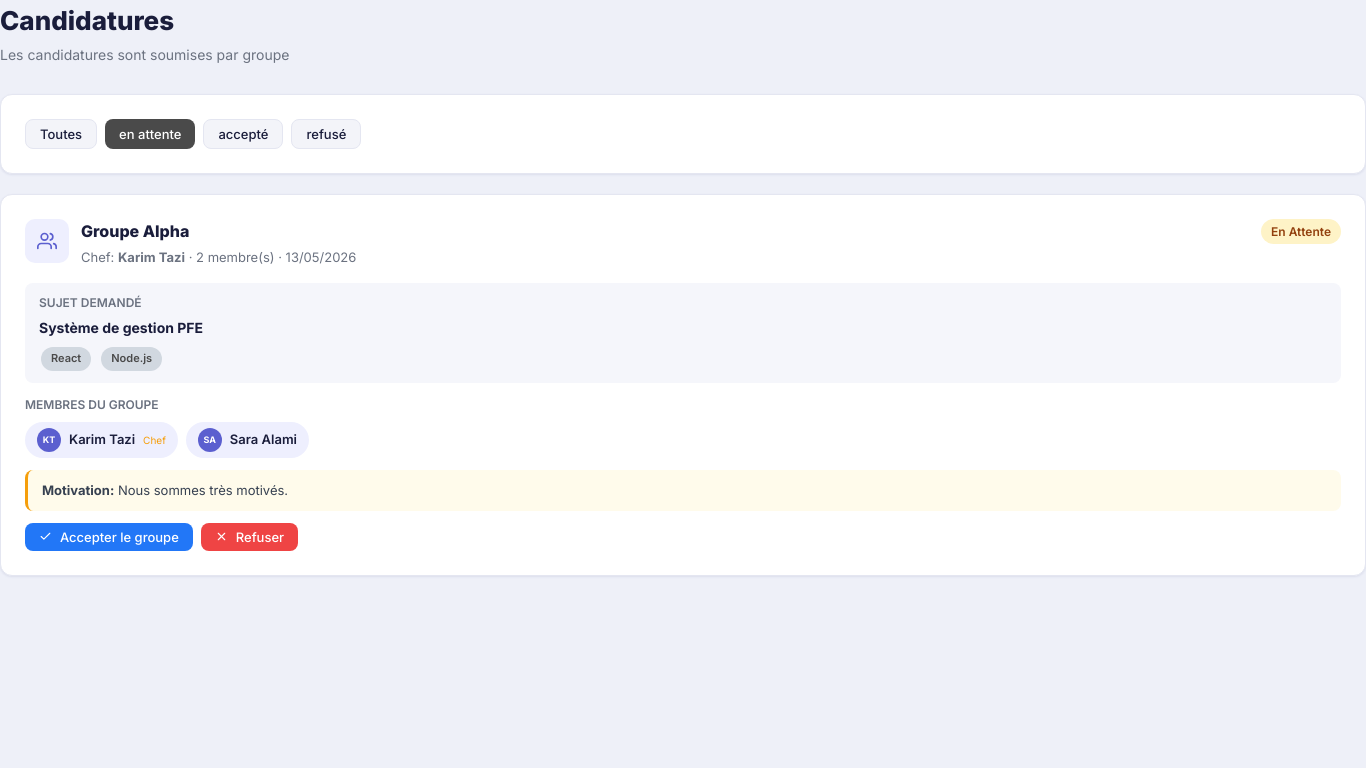
Scenario: ApplicationsReviewPage › opens refuse modal
This screenshot has width=1366, height=768.
Click the button "Refuser". click: (249, 536)
box: [201,522,298,550]
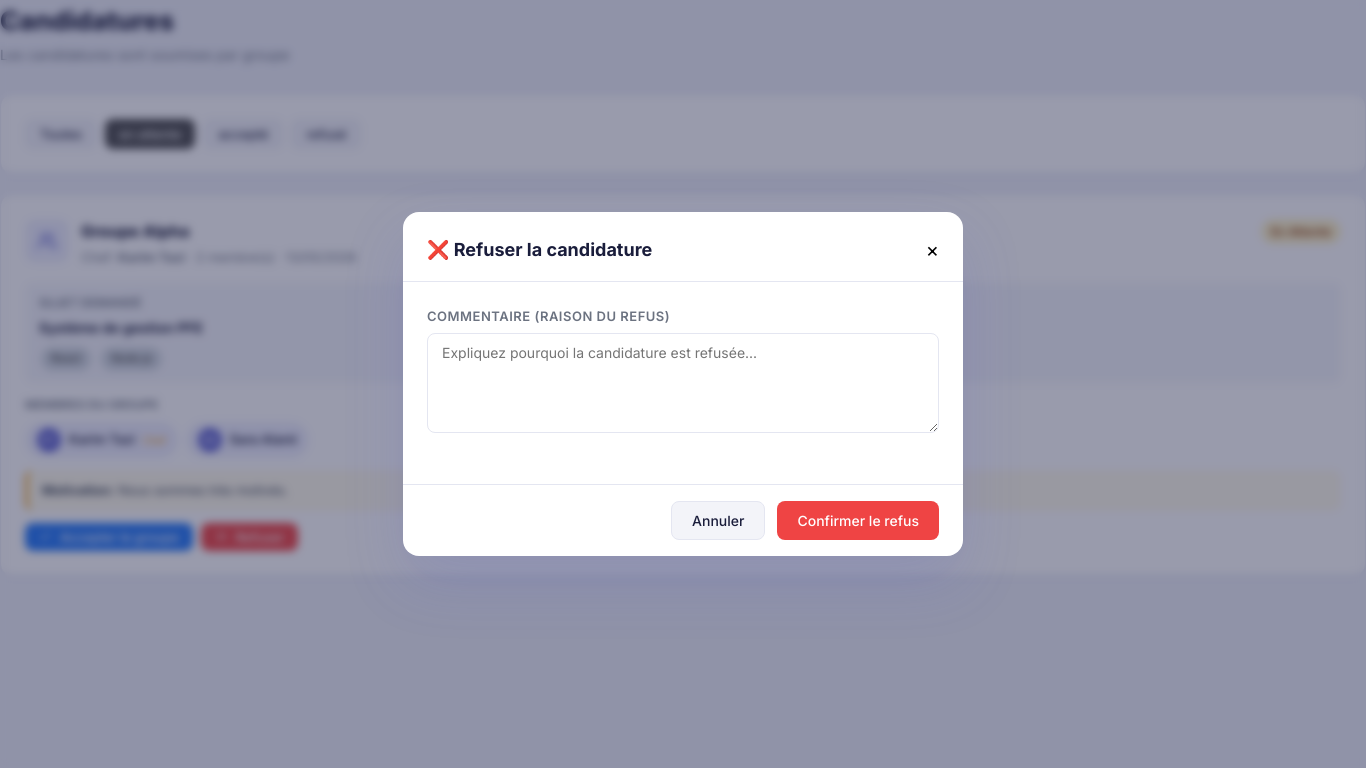
Check: the button "Confirmer le refus" is shown, box [777,501,939,540]
